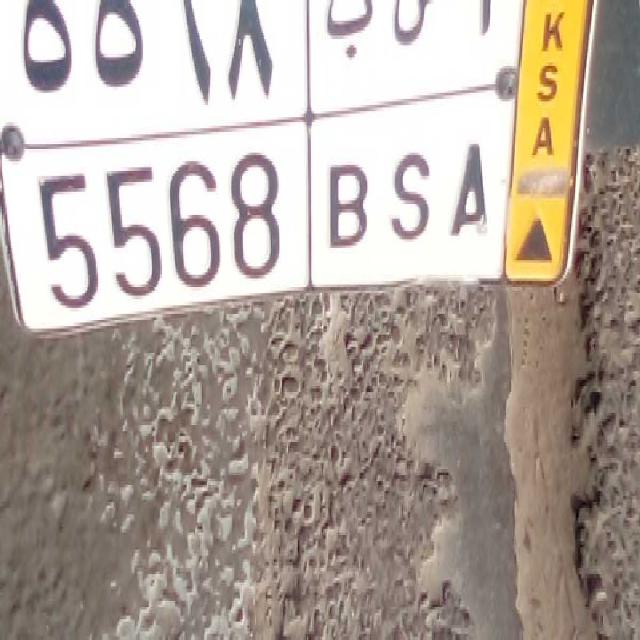license_plate: (21, 112, 503, 338)
